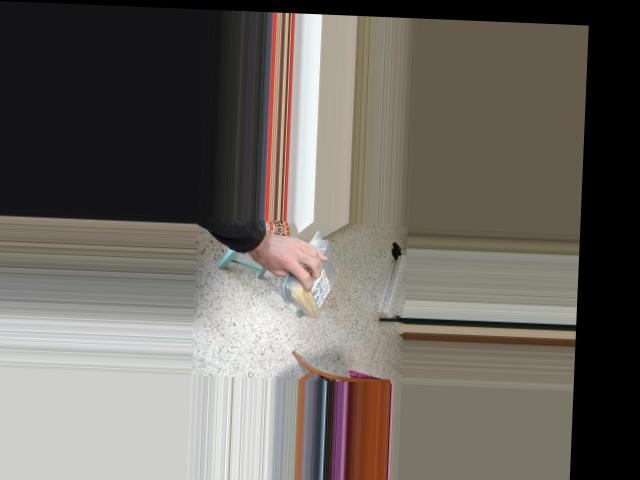cheese: (288, 230, 335, 318)
